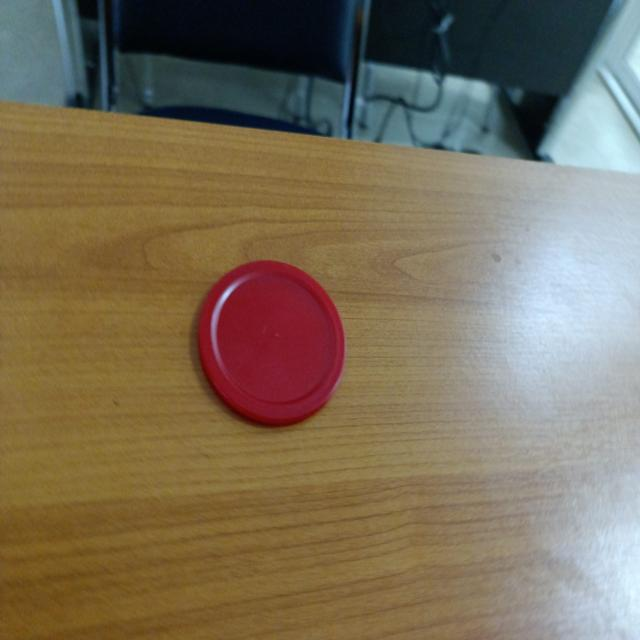chip: (196, 255, 346, 428)
